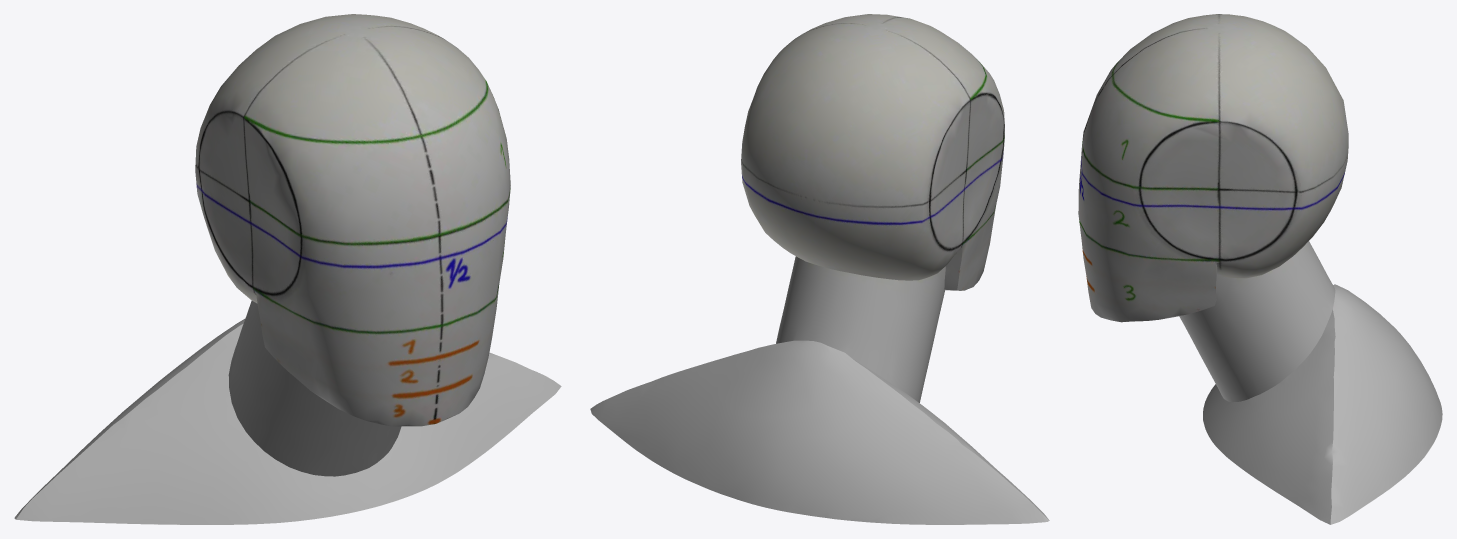
Rendered from 头像_带标注_20260324202238_opt.glb.
The picture shows the model from 3 angles, left to right: view 1: azimuth 30°, elevation 25°; view 2: azimuth 150°, elevation 25°; view 3: azimuth 270°, elevation 25°; orthographic projection. The views are drawn at different scales.
Visible parts, largest first — view 1: Helmet_1_LowPoGood; view 2: Helmet_1_LowPoGood; view 3: Helmet_1_LowPoGood.
Part boxes in pixels (bbox=[...]): Helmet_1_LowPoGood: bbox=[14, 14, 561, 524]; Helmet_1_LowPoGood: bbox=[590, 14, 1049, 524]; Helmet_1_LowPoGood: bbox=[1078, 14, 1442, 524].
Size of the model in its own units: 0.4851 by 0.4 by 0.3403.
Materials: 2 (1 with a texture image).
